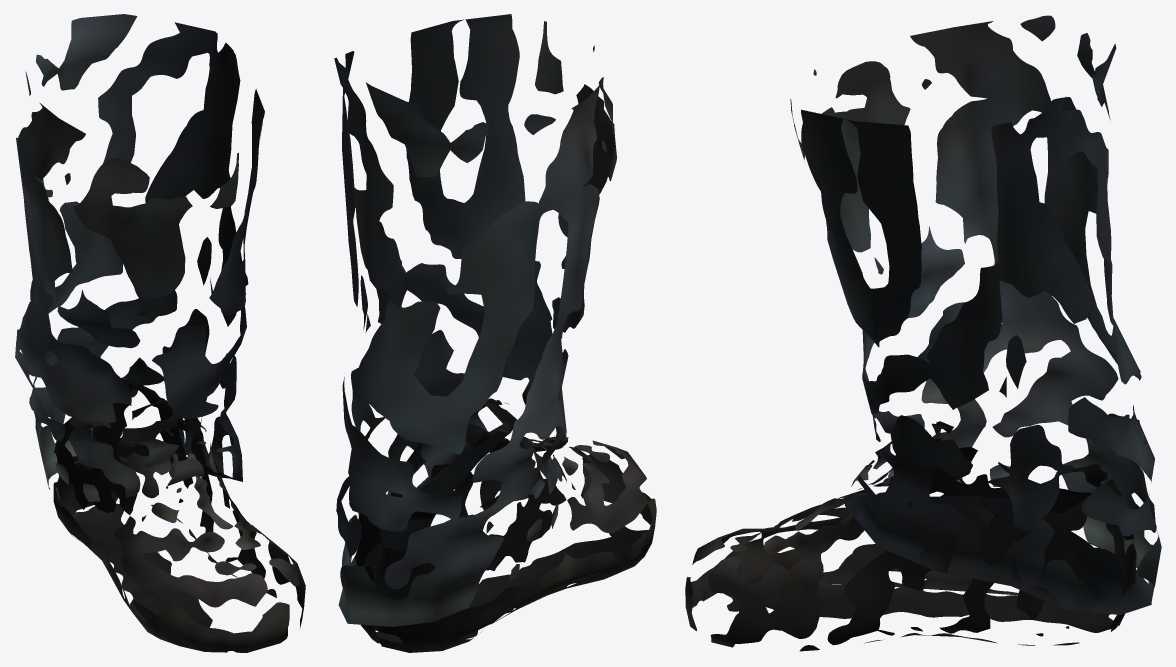
The model's file is BottomRightLeg.obj.
3 renders of one model, left to right at view 1: azimuth 30°, elevation 25°; view 2: azimuth 150°, elevation 25°; view 3: azimuth 270°, elevation 25°, orthographic. The views are drawn at different scales.
Parts seen in each view (by area): view 1: rdmobj00.001; view 2: rdmobj00.001; view 3: rdmobj00.001.
Part boxes in pixels (x1,y1,x2,y2): rdmobj00.001: (15, 14, 305, 652); rdmobj00.001: (334, 14, 656, 652); rdmobj00.001: (685, 15, 1161, 651).
Bounding box in the file's own units: 0.775 × 1.74 × 1.31.
1 material, 1 textured.
